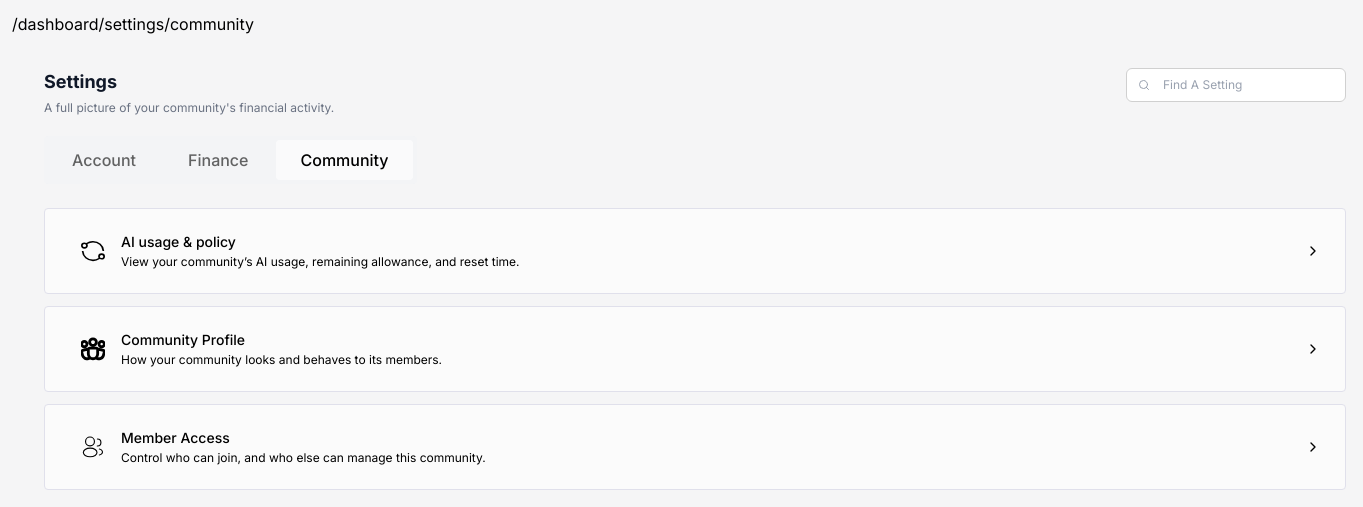
Test: Settings community context -- community-scoped destinations › shows community-scoped destinations when a community is resolvable, and includes ?community= on navigation
Click the button "Community Profile" at (183, 340), box [44,306,1346,392]
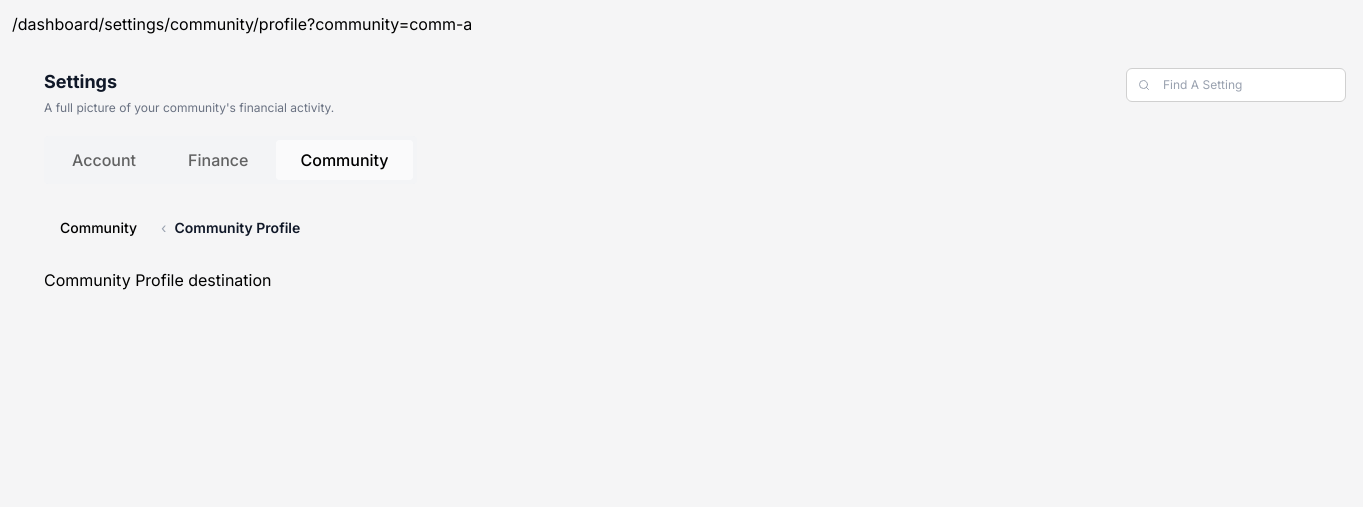
Now the text "Community Profile destination" is shown, box [44,270,272,290]
Now the text with test id "location" reads "/dashboard/settings/community/profile?community=comm-a", box [12,14,472,34]
